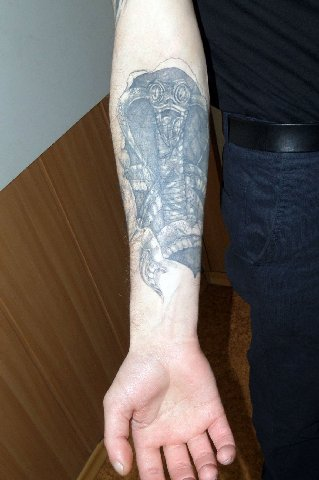tatu7_zmeya: (103, 60, 241, 342)
